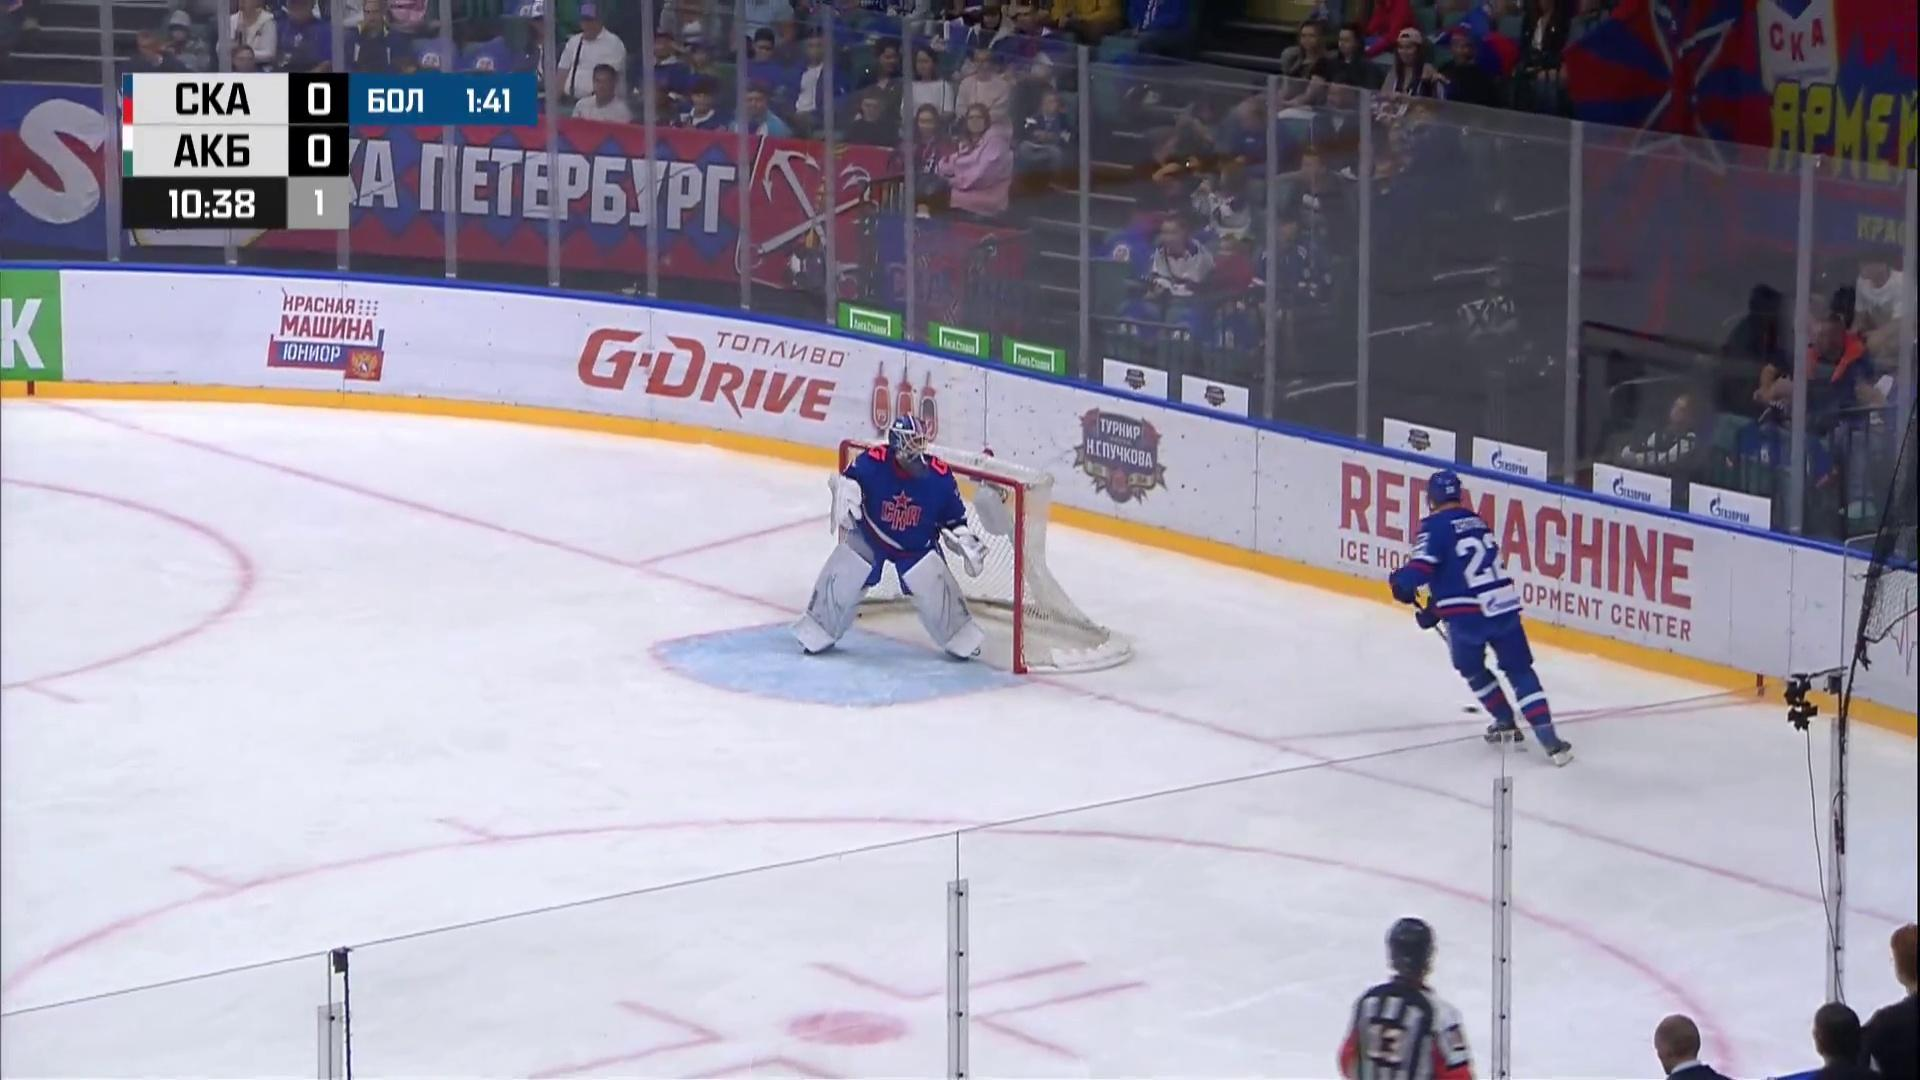ball: (1462, 705, 1481, 713)
